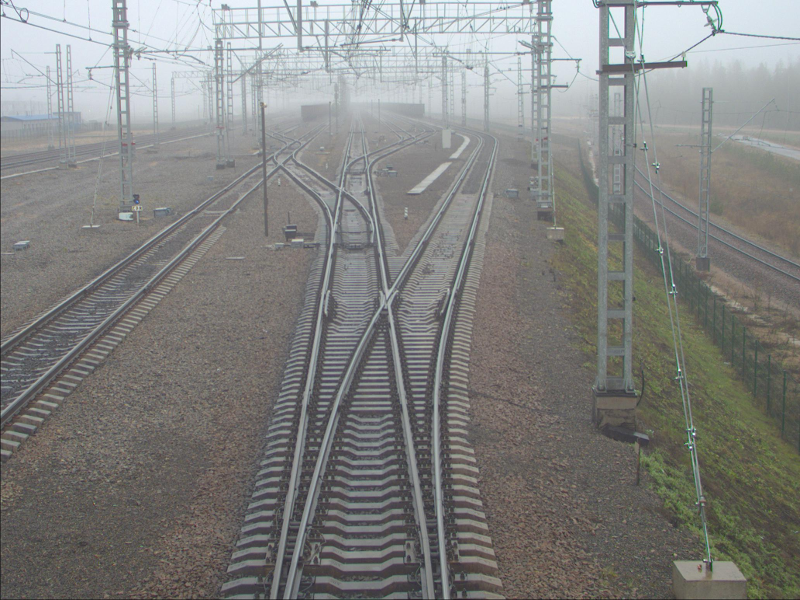right: (331, 187, 382, 247), (344, 153, 370, 174)
